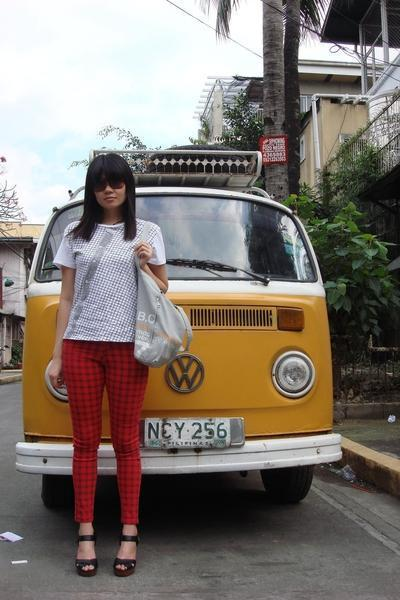bag: (131, 244, 156, 287)
jacket: (120, 276, 260, 361)
pants: (52, 339, 151, 515)
shirt: (50, 218, 165, 341)
shoe: (84, 541, 131, 559)
